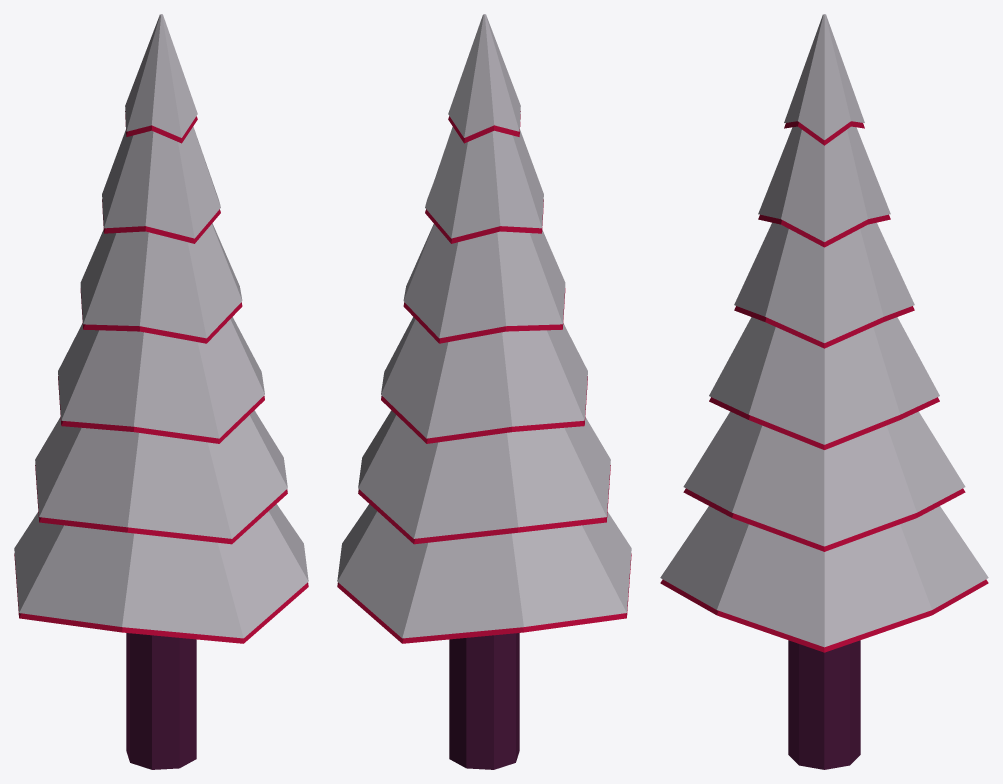
File: Snow_Tree.fbx
3 renders of one model, left to right at view 1: azimuth 30°, elevation 25°; view 2: azimuth 150°, elevation 25°; view 3: azimuth 270°, elevation 25°, orthographic.
Visible parts, largest first — view 1: Mesh; view 2: Mesh; view 3: Mesh.
Part boxes in pixels (x1,y1,x2,y2): Mesh: (14, 14, 308, 769); Mesh: (337, 14, 631, 769); Mesh: (660, 14, 988, 769).
Bounding box in the file's own units: 450 × 1117 × 450.
